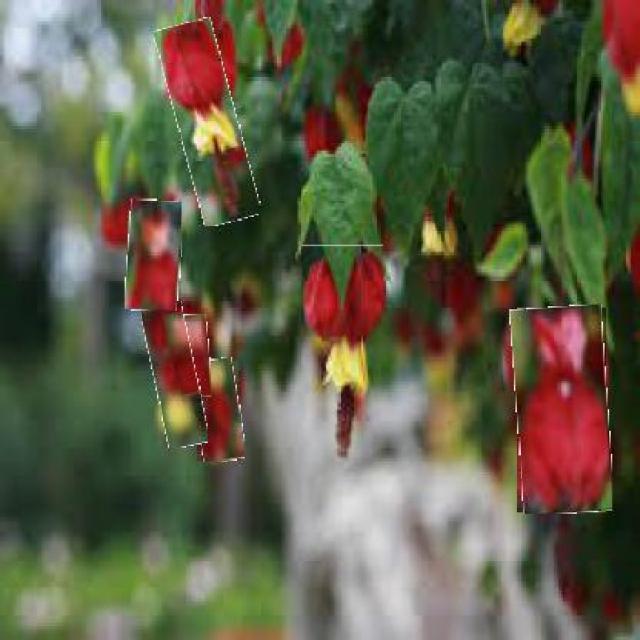Flower: (513, 307, 612, 515), (302, 245, 384, 459), (167, 19, 250, 226), (147, 300, 202, 449), (126, 199, 182, 312), (194, 359, 243, 463), (174, 315, 211, 399)
